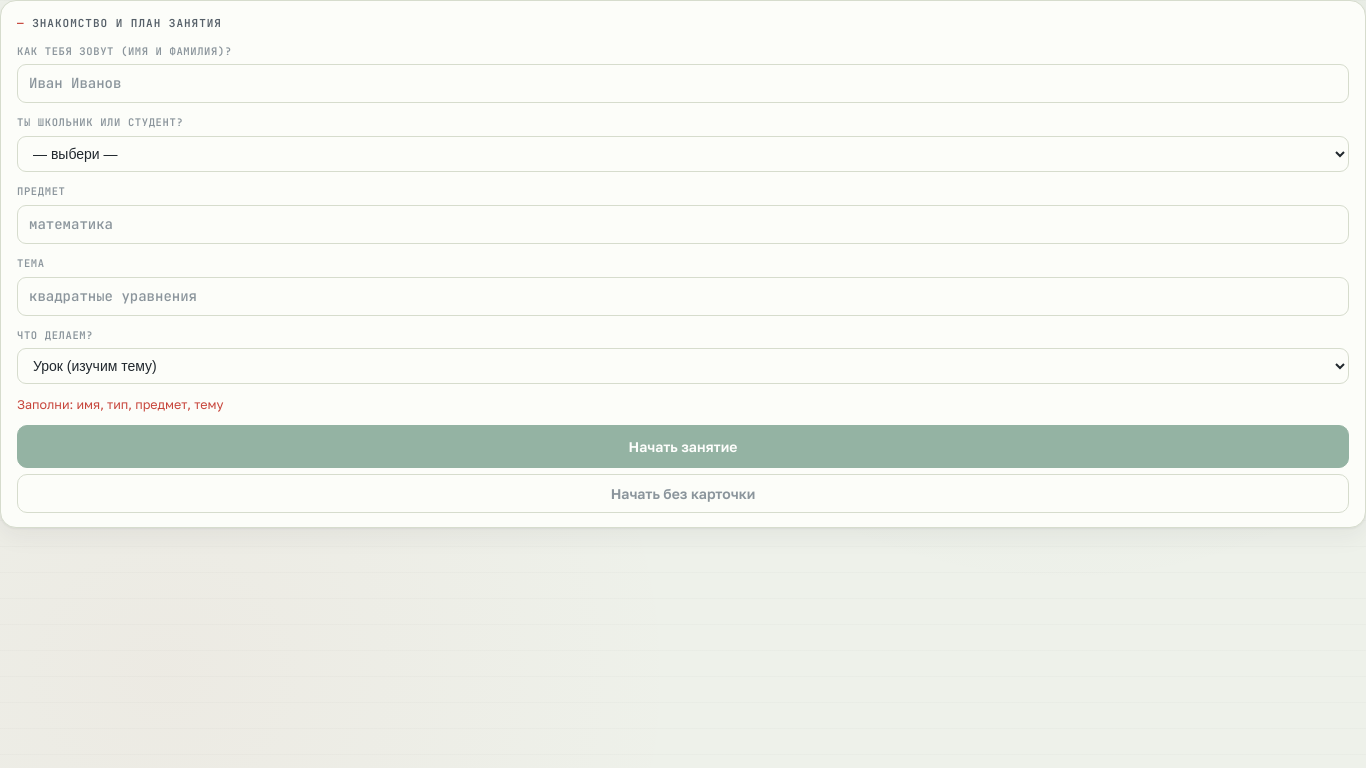
Test: <IntakeCard/> › shows hint when name has a single word
Type "Иван" into the field with placeholder "Иван Иванов" at point(683, 84), box [17, 64, 1349, 103]
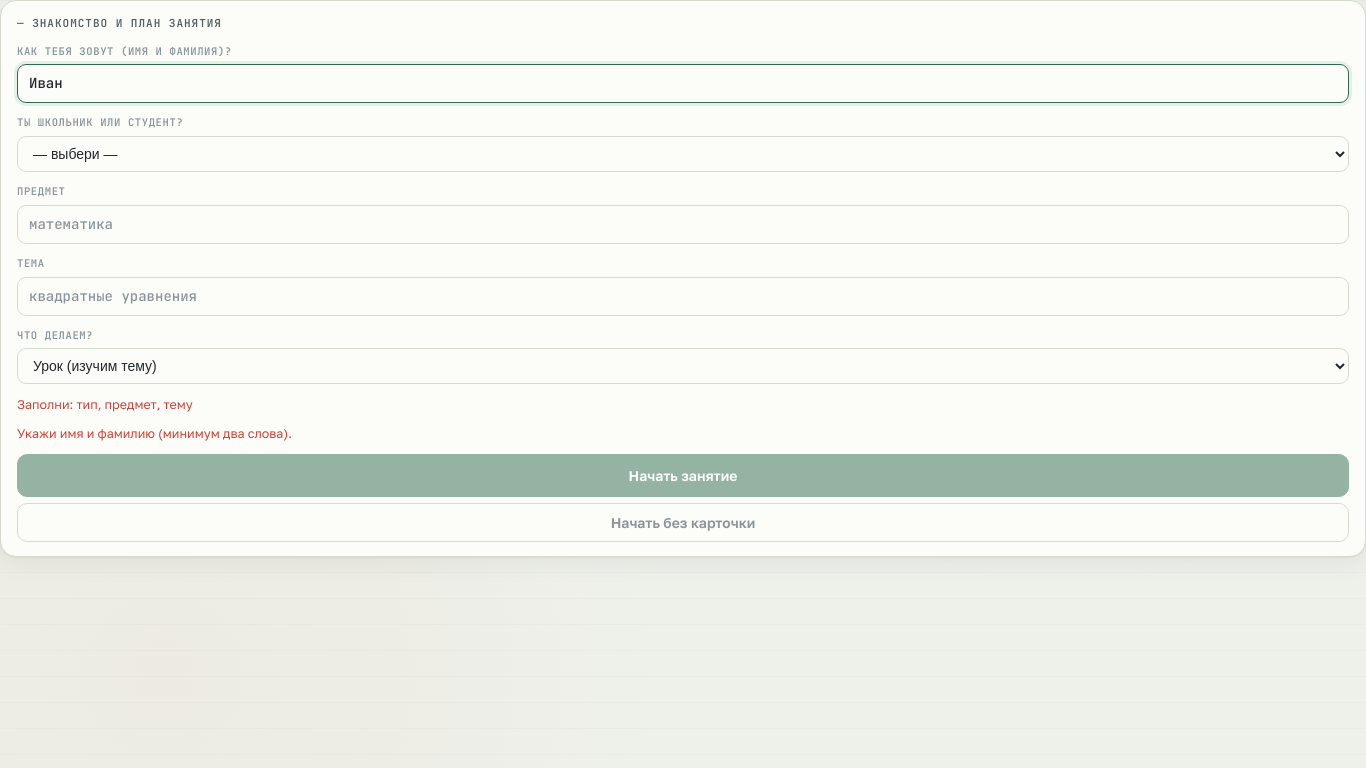
Expected: the text "Укажи имя и фамилию (минимум два слова)." is shown, [17, 426, 292, 441]
